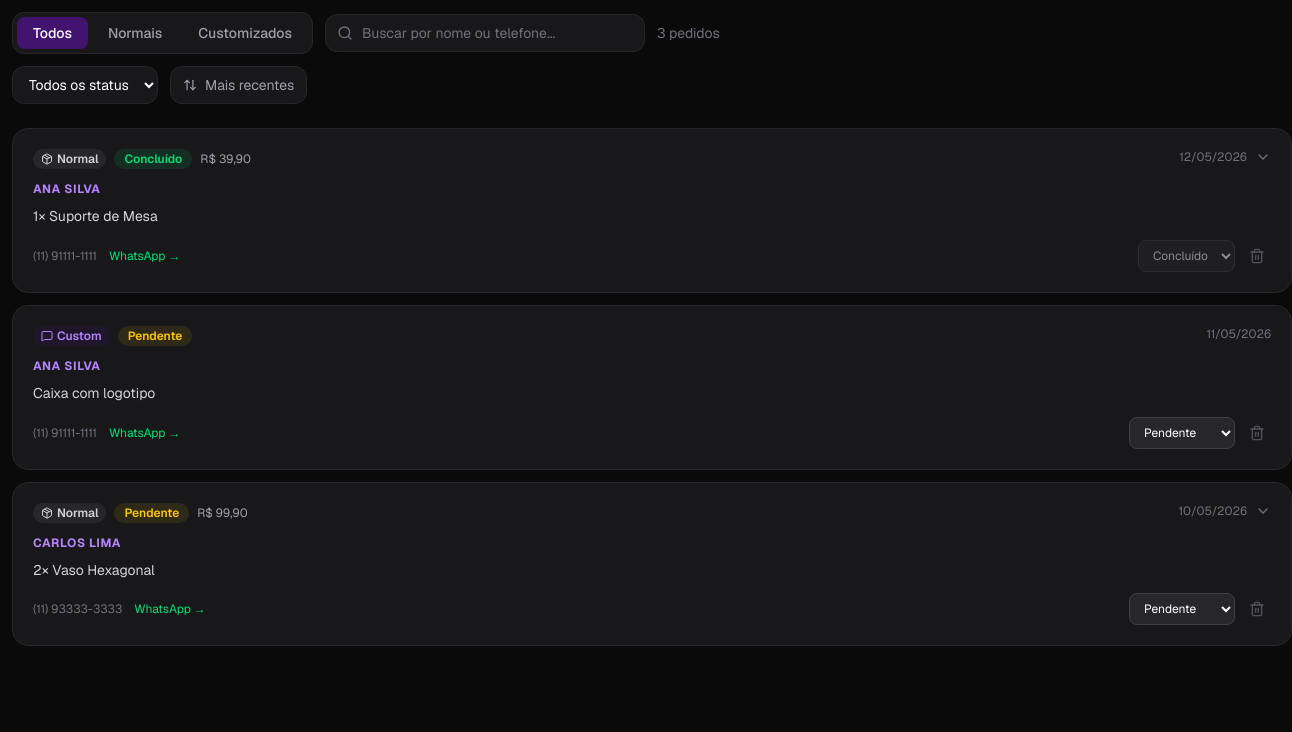
Test: OrdersPanel › shows only normal orders in "Normais" tab
Step 1. Click the button "Normais" → point(135, 33), box [92,17,178,49]
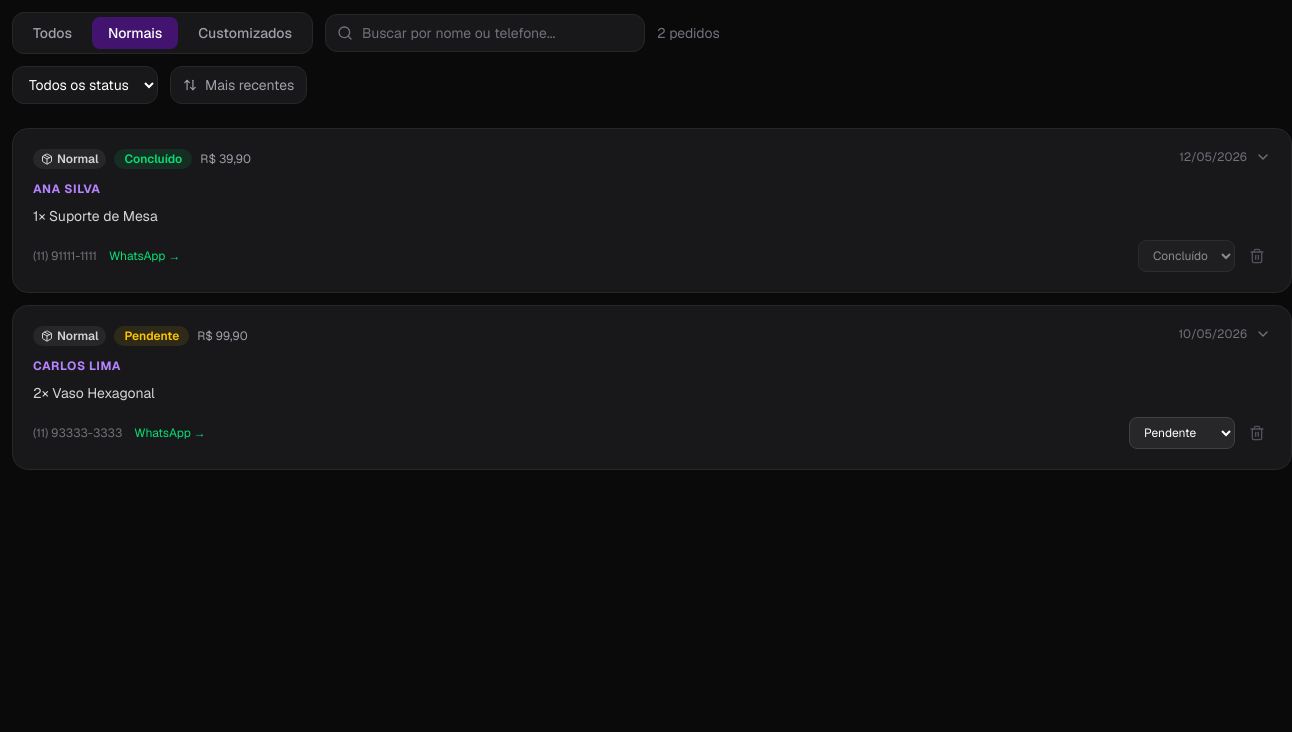
expect the text "2× Vaso Hexagonal" is shown: met, box [33,384,155,402]
expect the text "Caixa com logotipo" is gone: met
